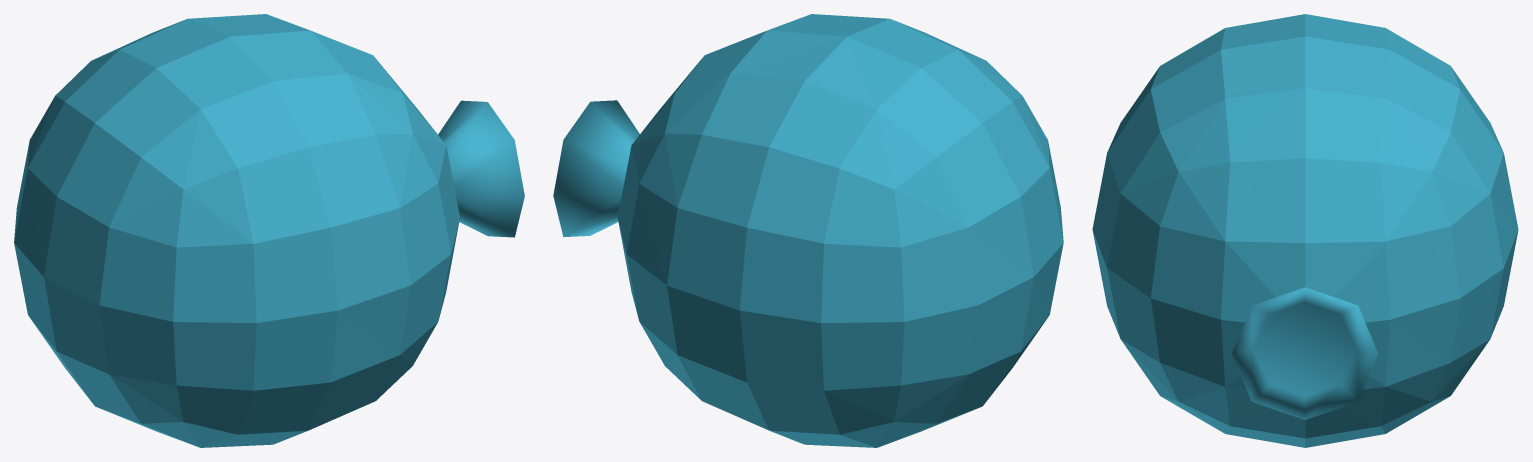
File: playerBag.obj
The picture shows the model from 3 angles, left to right: view 1: azimuth 30°, elevation 25°; view 2: azimuth 150°, elevation 25°; view 3: azimuth 270°, elevation 25°; orthographic projection.
Parts seen in each view (by area): view 1: 立方体.001; view 2: 立方体.001; view 3: 立方体.001.
Boxes of the visible parts, x1,y1,x2,y2 form: 立方体.001: (14,14,524,447); 立方体.001: (553,14,1063,447); 立方体.001: (1092,14,1518,447).
Bounding box in the file's own units: 2 × 1.68 × 1.68.
1 material, 1 textured.
